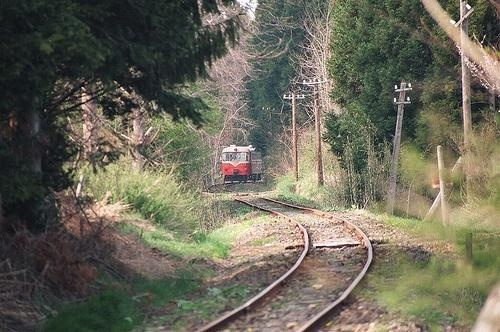train: (221, 143, 266, 183)
